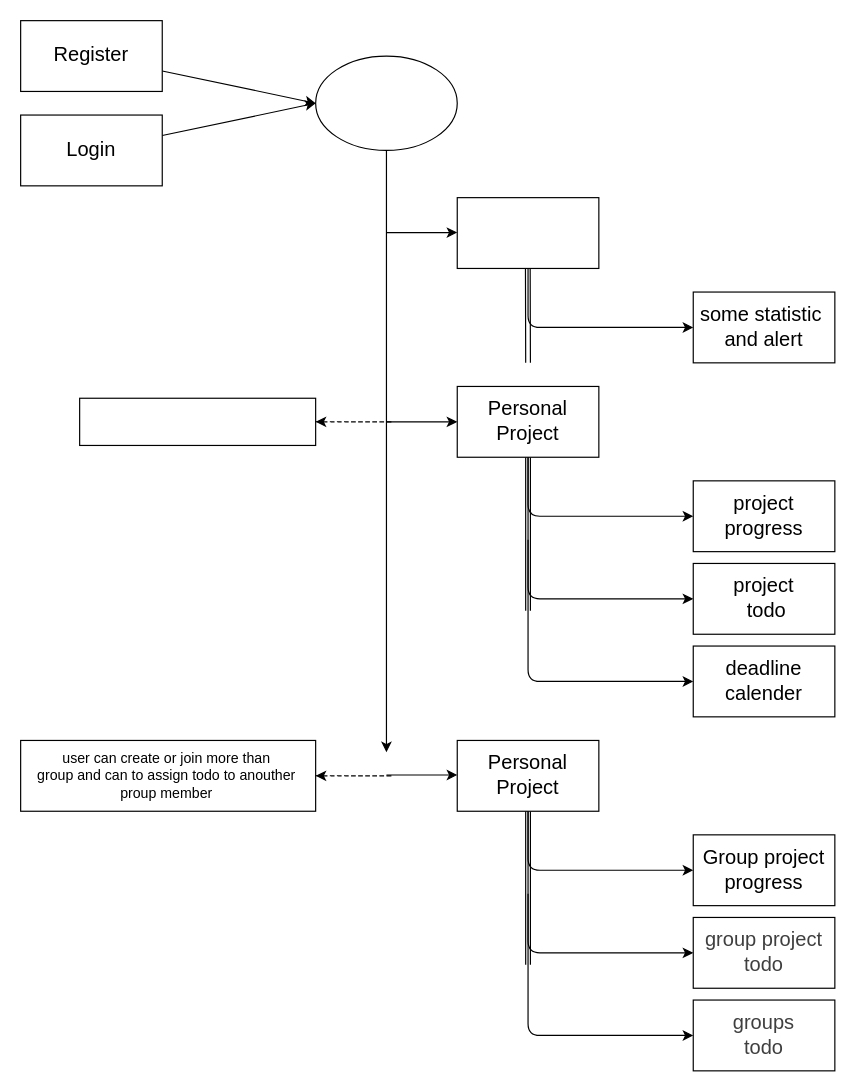
The diagram is 855 pixels wide and 1092 high, and some of its shapes have lost their labels. The centre of each missing label's shape, as x and y in pixels:
home page: point 527,232
user: point 385,102
user can create more than project and every project has own todo: point 197,421
